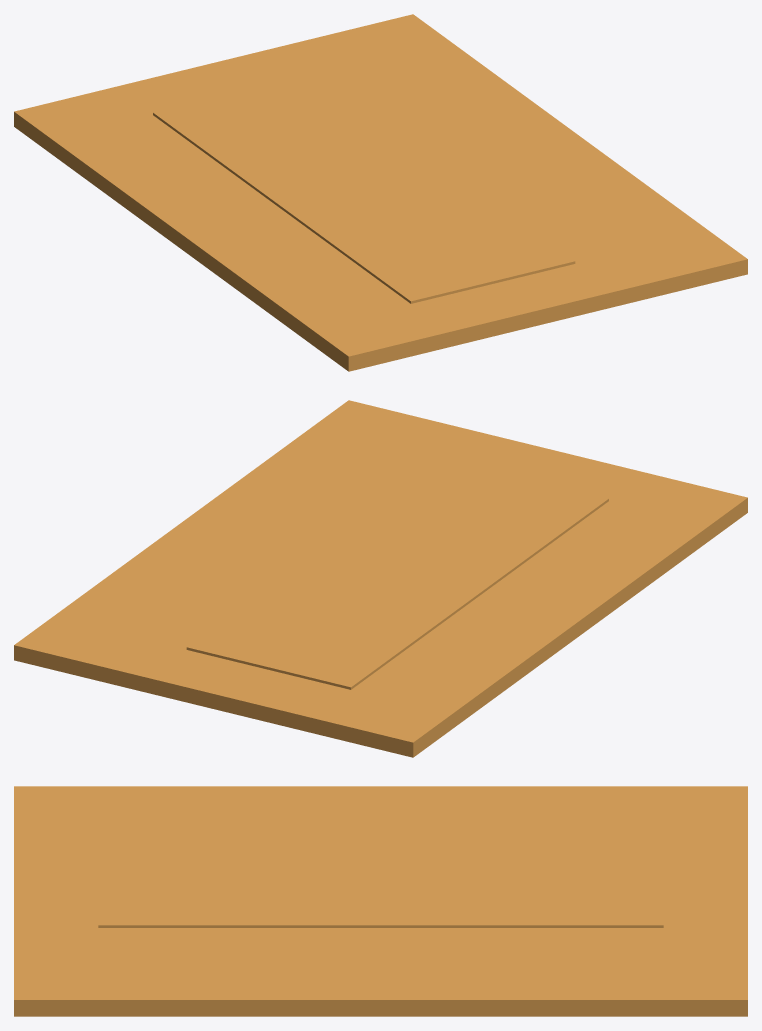
Rendered from Piso_7.fbx.
3 renders of one model, top to bottom at view 1: azimuth 30°, elevation 25°; view 2: azimuth 150°, elevation 25°; view 3: azimuth 270°, elevation 25°, orthographic. The views are drawn at different scales.
Parts seen in each view (by area): view 1: Escenario_7_Lux1, Escenario_7_Lux; view 2: Escenario_7_Lux1, Escenario_7_Lux; view 3: Escenario_7_Lux1, Escenario_7_Lux.
Boxes of the visible parts, <box> form: Escenario_7_Lux1: <box>14,14,747,371</box>; Escenario_7_Lux: <box>153,72,575,303</box>; Escenario_7_Lux1: <box>14,400,747,757</box>; Escenario_7_Lux: <box>186,458,608,689</box>; Escenario_7_Lux1: <box>14,786,747,1016</box>; Escenario_7_Lux: <box>98,837,663,927</box>.
Bounding box in the file's own units: 24.28 × 1.03 × 35.27.
